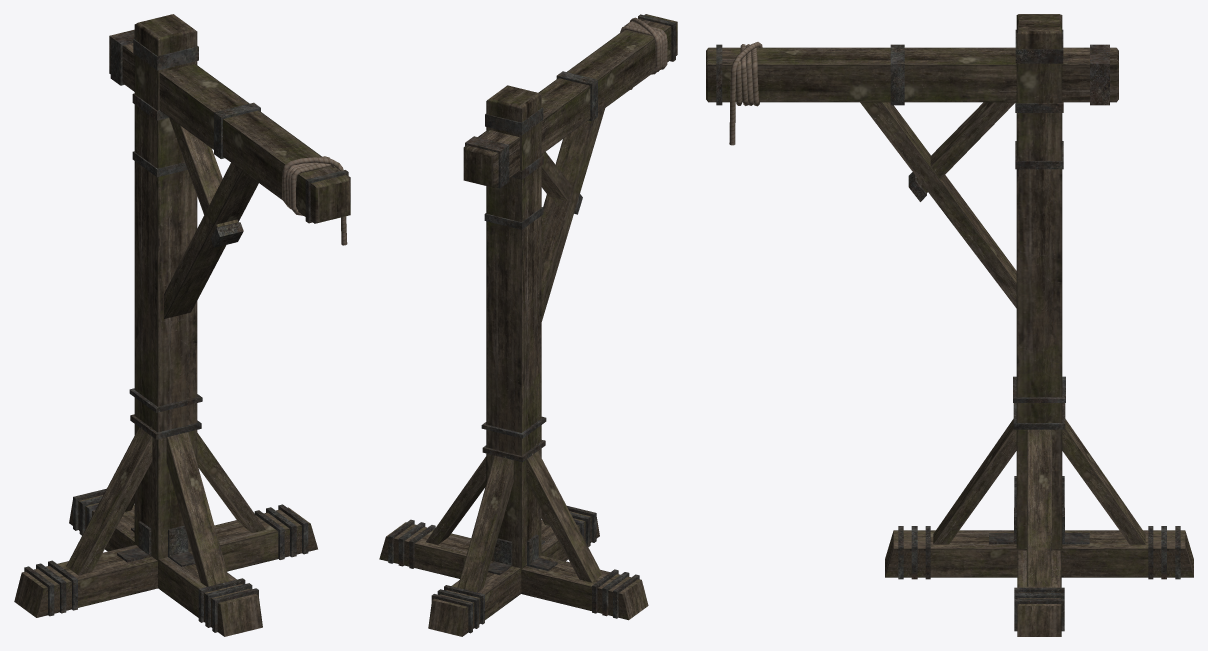
The model's file is Crane.fbx.
3 views of the same model, side by side, from view 1: azimuth 30°, elevation 25°; view 2: azimuth 150°, elevation 25°; view 3: azimuth 270°, elevation 25° (orthographic). The views are drawn at different scales.
Visible parts, largest first — view 1: Crane; view 2: Crane; view 3: Crane.
Boxes of the visible parts, box(x1,y1,x2,y2) form: Crane: box(14, 14, 350, 636); Crane: box(379, 14, 677, 636); Crane: box(706, 14, 1193, 636).
Bounding box in the file's own units: 191 × 357 × 289.
